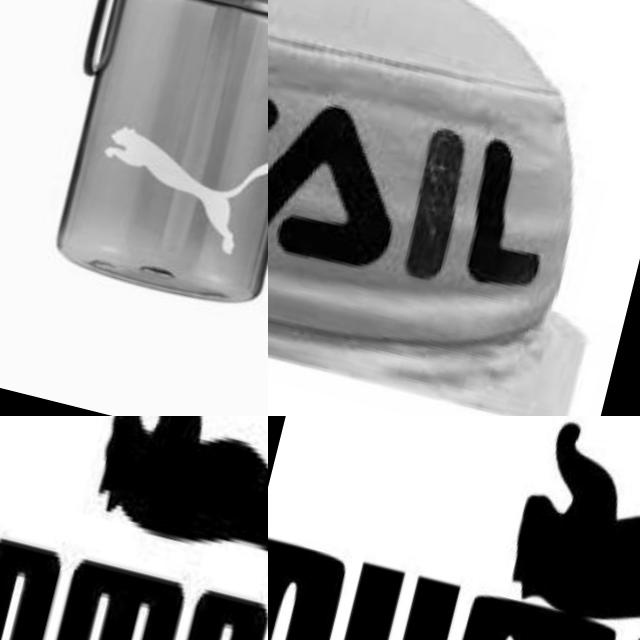FILA_fake: (268, 54, 581, 341)
PUMA_fake: (268, 416, 640, 640), (0, 416, 268, 640)
PUMA_original: (54, 83, 268, 298)
